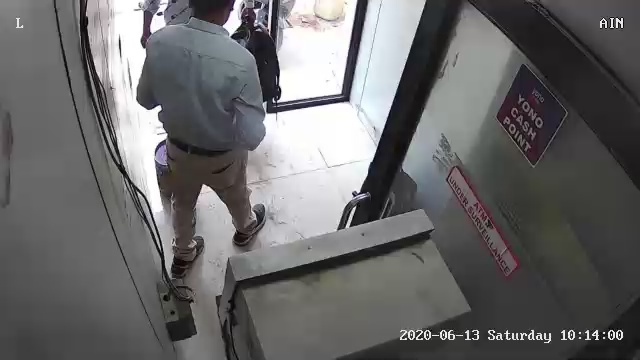open: (335, 1, 635, 356)
